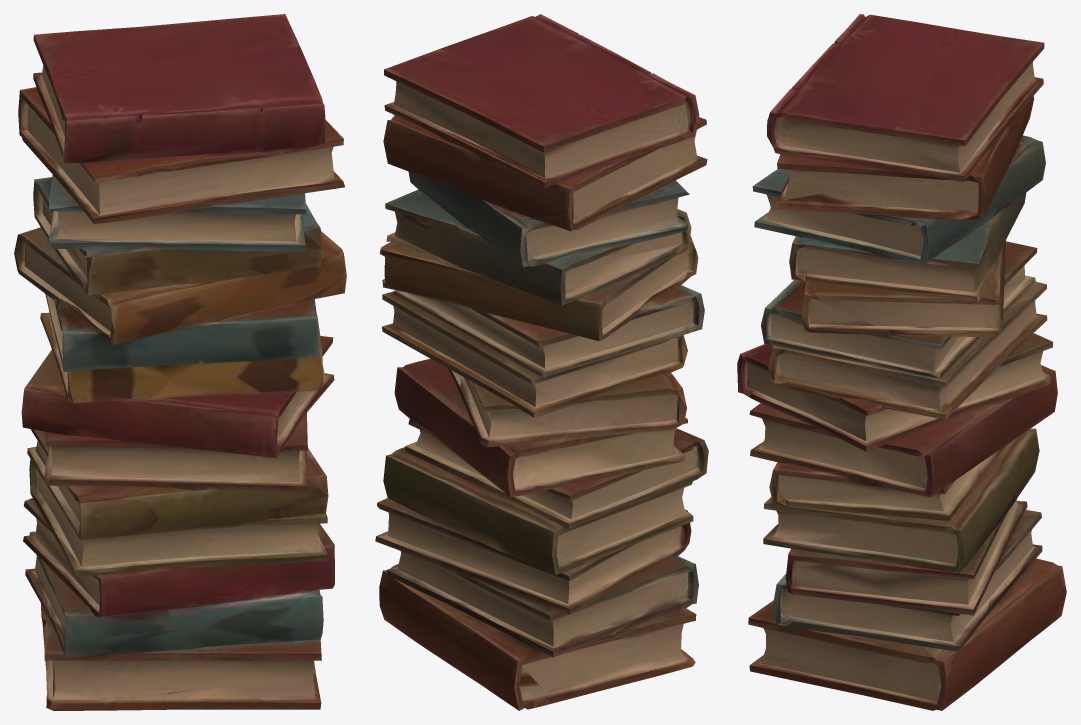
File: decor_books_stack_idle.glb
The picture shows the model from 3 angles, left to right: view 1: azimuth 30°, elevation 25°; view 2: azimuth 150°, elevation 25°; view 3: azimuth 270°, elevation 25°; orthographic projection. The views are drawn at different scales.
Visible parts, largest first — view 1: tripo_node_f123c83f-9f48-46e6-b13a-b6a3a70498aa; view 2: tripo_node_f123c83f-9f48-46e6-b13a-b6a3a70498aa; view 3: tripo_node_f123c83f-9f48-46e6-b13a-b6a3a70498aa.
Part boxes in pixels (bbox=[...]): tripo_node_f123c83f-9f48-46e6-b13a-b6a3a70498aa: bbox=[14, 14, 346, 710]; tripo_node_f123c83f-9f48-46e6-b13a-b6a3a70498aa: bbox=[375, 14, 708, 710]; tripo_node_f123c83f-9f48-46e6-b13a-b6a3a70498aa: bbox=[737, 14, 1066, 710].
Bounding box in the file's own units: 0.2691 × 0.4995 × 0.2629.
1 material, 1 textured.
